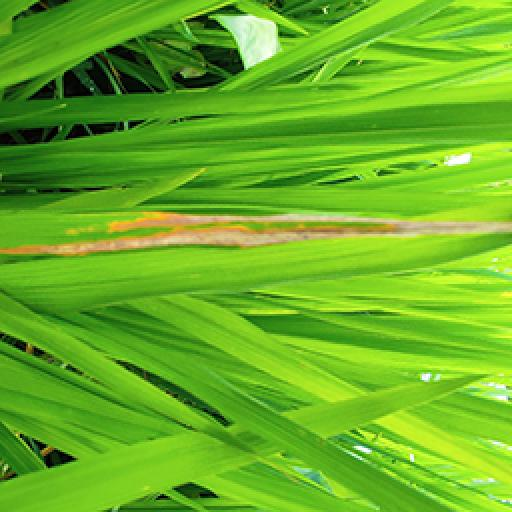Sheath Blight: (0, 198, 512, 256)
